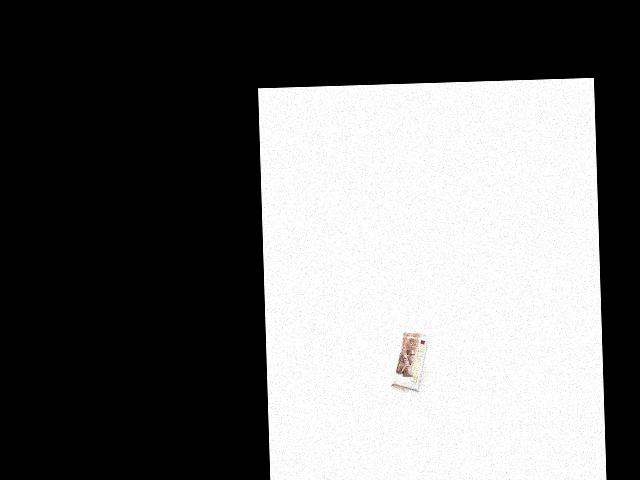chocolate: (385, 331, 434, 390)
